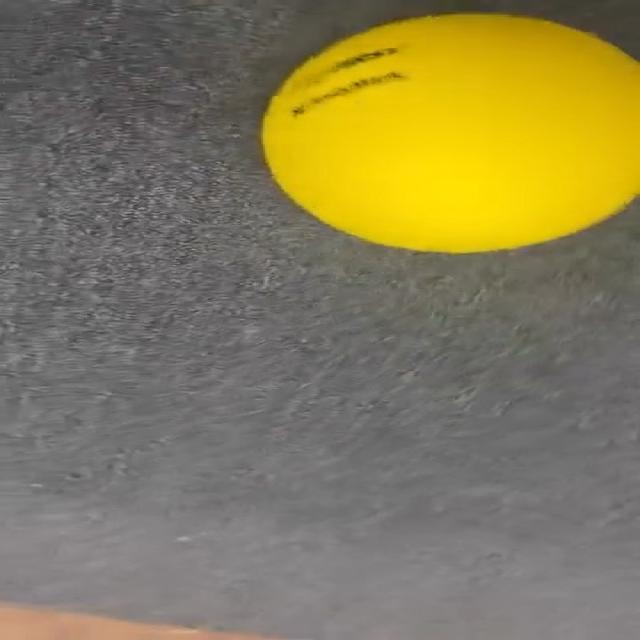Fuels: (254, 11, 640, 253)
